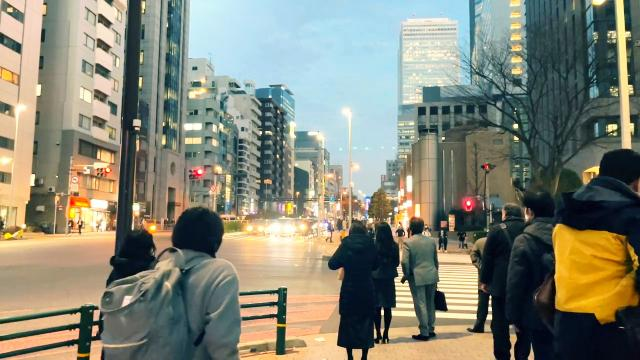berdiri: (556, 140, 640, 360), (510, 184, 562, 360), (326, 219, 388, 360), (397, 212, 447, 342), (470, 219, 496, 339)
berjalan: (98, 198, 248, 360)
